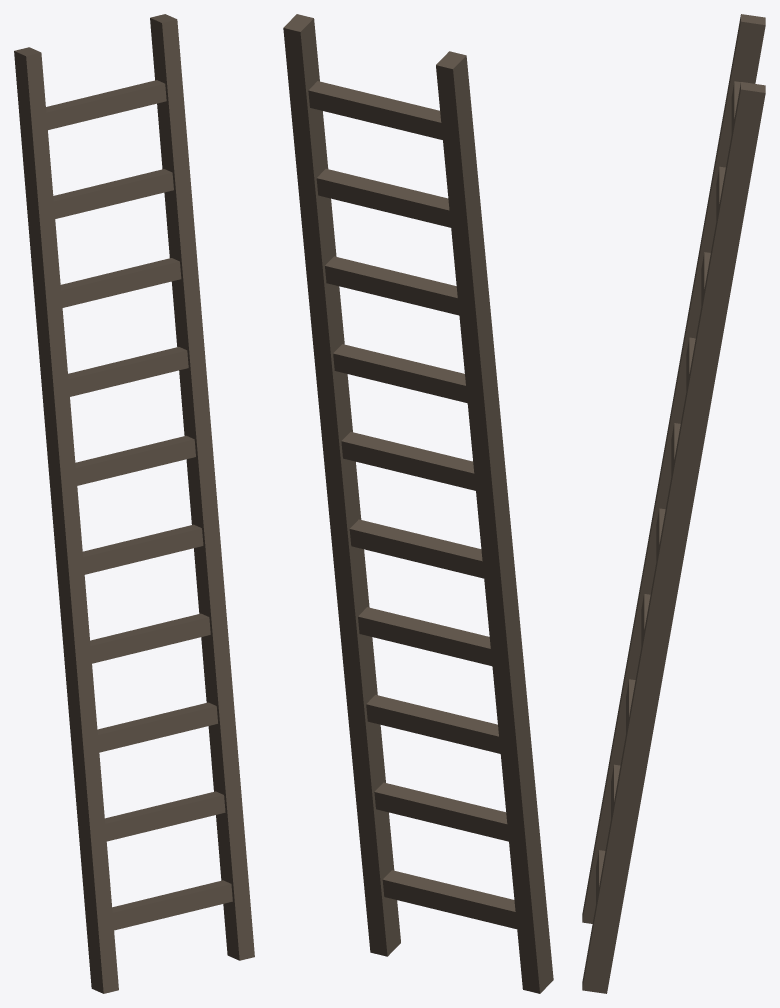
File: Ladder.fbx
The picture shows the model from 3 angles, left to right: view 1: azimuth 30°, elevation 25°; view 2: azimuth 150°, elevation 25°; view 3: azimuth 270°, elevation 25°; orthographic projection. The views are drawn at different scales.
Visible parts, largest first — view 1: pCylinder575; view 2: pCylinder575; view 3: pCylinder575.
Boxes of the visible parts, box(x1,y1,x2,y2) form: pCylinder575: box(14, 14, 254, 993); pCylinder575: box(283, 14, 553, 993); pCylinder575: box(582, 14, 765, 993).
Size of the model in its own units: 0.9064 by 5.06 by 0.9312.
